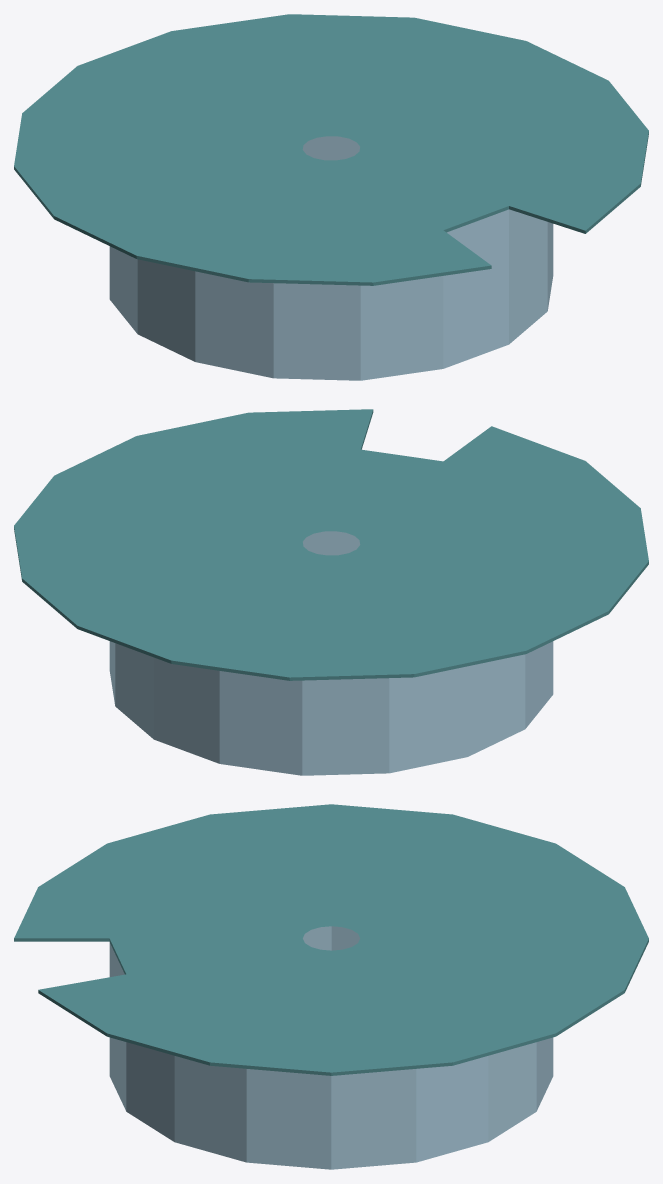
The model's file is Módulo_antena_plataforma_superior_01.fbx.
The picture shows the model from 3 angles, top to bottom: view 1: azimuth 30°, elevation 25°; view 2: azimuth 150°, elevation 25°; view 3: azimuth 270°, elevation 25°; orthographic projection.
Visible parts, largest first — view 1: Módulo_antena_plataforma_superior; view 2: Módulo_antena_plataforma_superior; view 3: Módulo_antena_plataforma_superior.
Boxes of the visible parts, x1,y1,x2,y2 form: Módulo_antena_plataforma_superior: (14, 14, 648, 380); Módulo_antena_plataforma_superior: (14, 409, 648, 775); Módulo_antena_plataforma_superior: (14, 804, 648, 1169).
Size of the model in its own units: 858 by 205 by 858.
